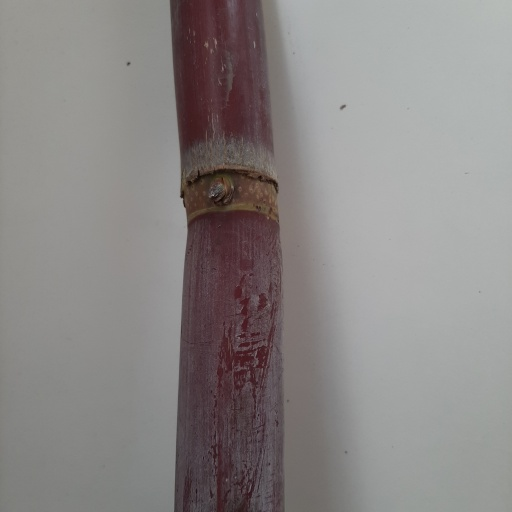Bud: (205, 174, 234, 208)
